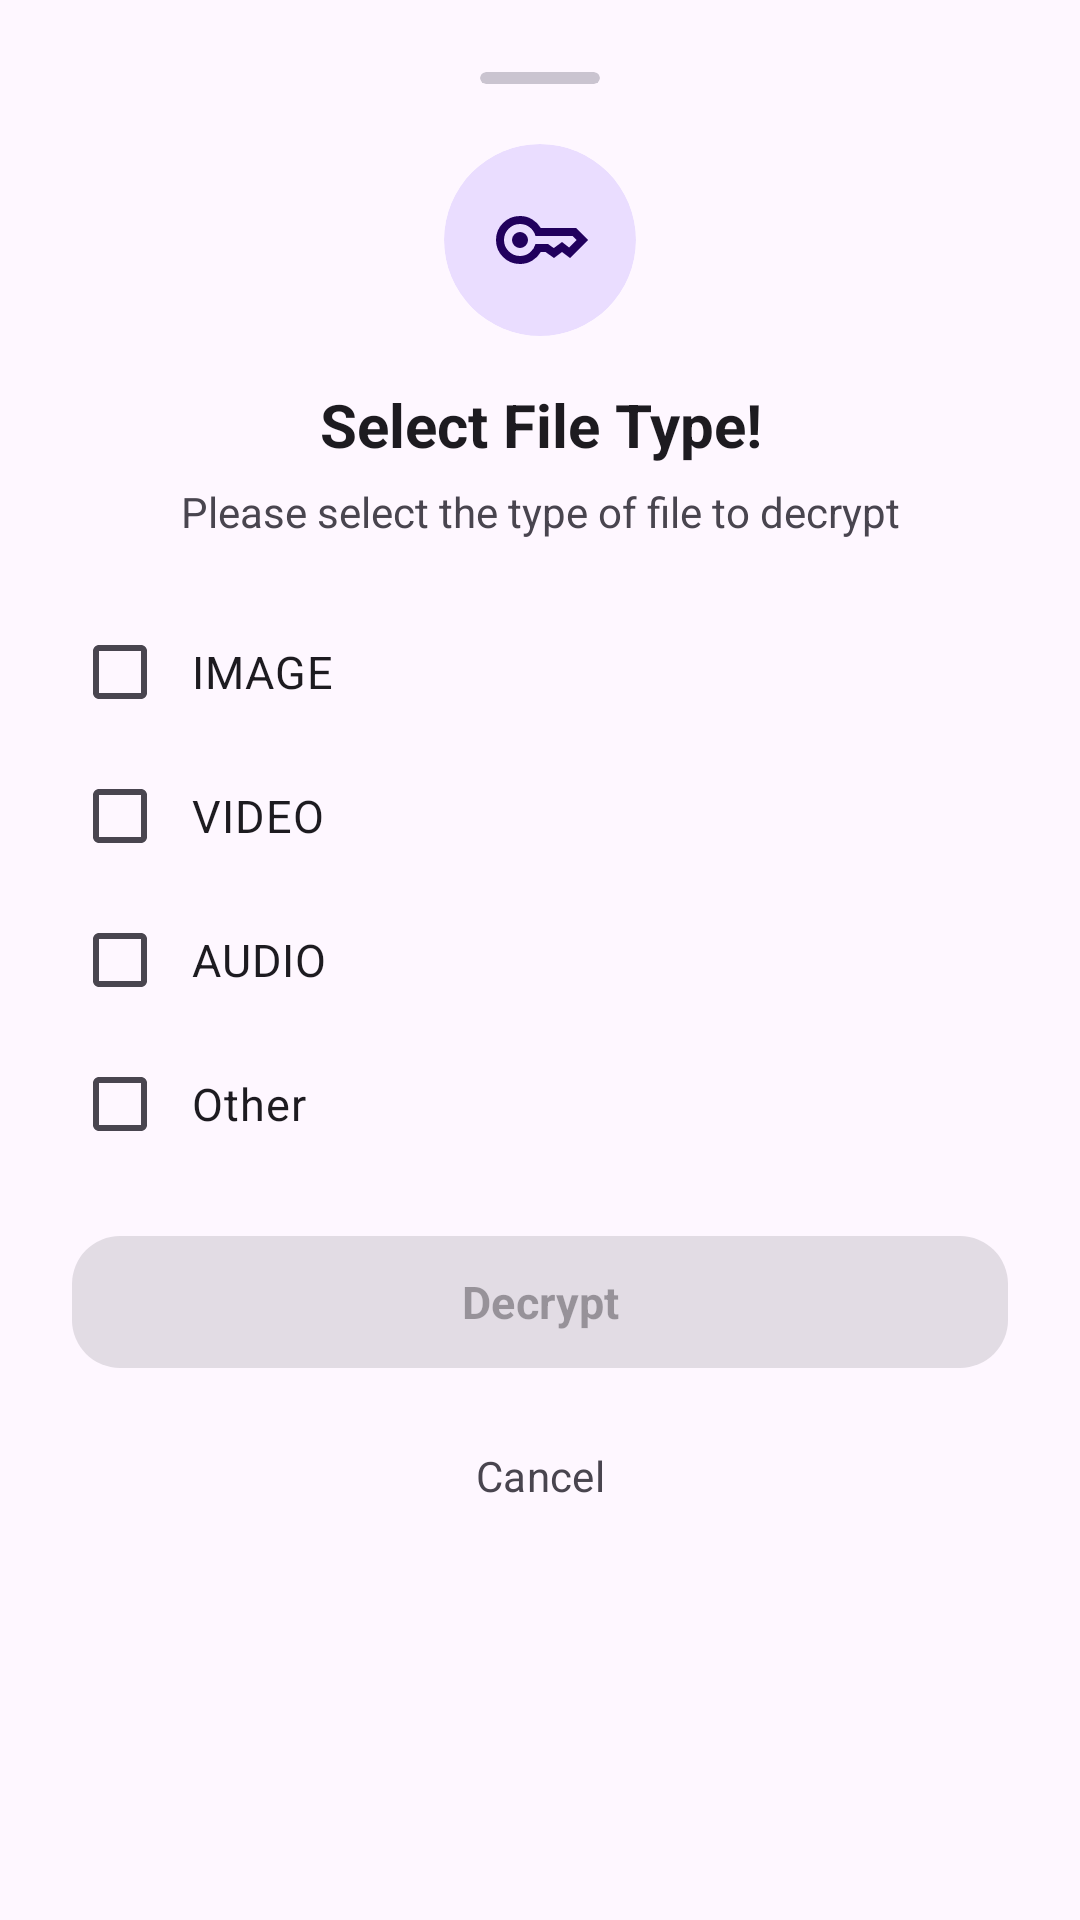

Icon bounding boxes for this 1080×1920 phone screenshot, format (left=x1, top=y1, right=x2, bottom=y2):
key: (left=496, top=216, right=588, bottom=264)
